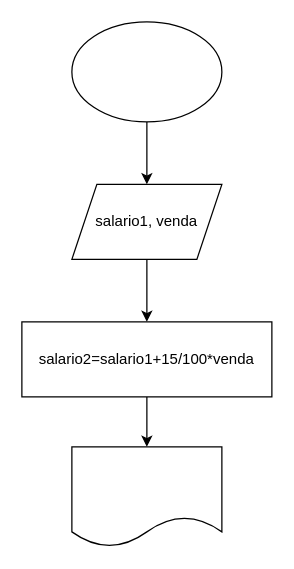
Image size: 294x569. Some labels were removed from this diagram. The box of each missing label's shape, as (x1, y1, x2, y2) in pixels:
inicio: (71, 21, 222, 122)
salario2: (71, 446, 222, 547)
